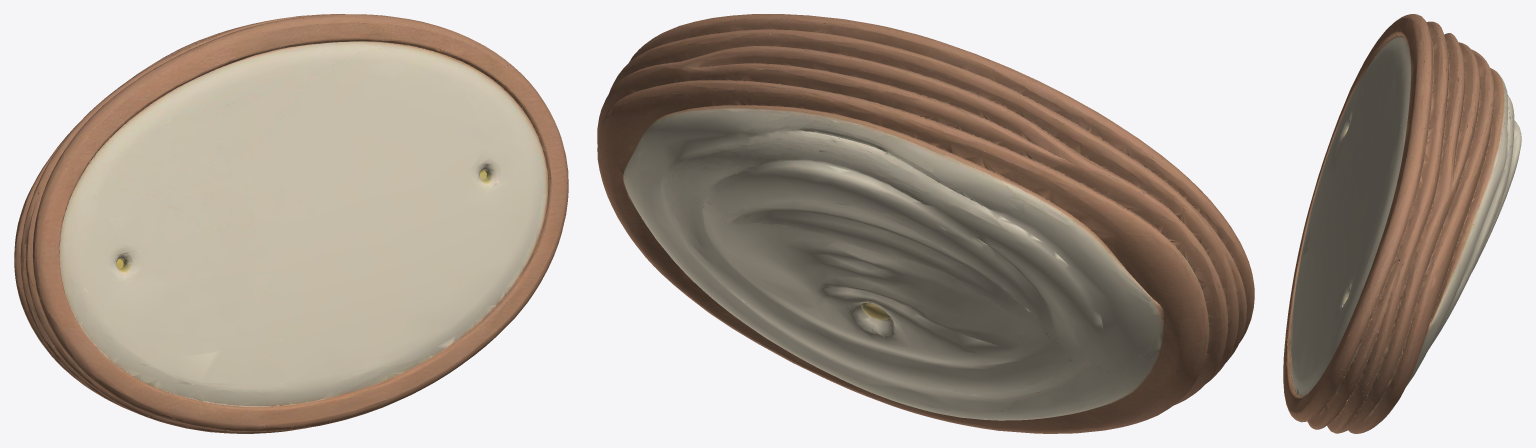
Rendered from assembly-13-blank-bilingual-plaque.glb.
The picture shows the model from 3 angles, left to right: view 1: azimuth 30°, elevation 25°; view 2: azimuth 150°, elevation 25°; view 3: azimuth 270°, elevation 25°; orthographic projection. The views are drawn at different scales.
Parts seen in each view (by area): view 1: assembly-13; view 2: assembly-13; view 3: assembly-13.
Boxes of the visible parts, x1,y1,x2,y2 form: assembly-13: (14,14,568,433); assembly-13: (597,14,1254,433); assembly-13: (1283,14,1521,433).
Size of the model in its own units: 2 by 1.29 by 0.8212.
Materials: 1 (1 with a texture image).
